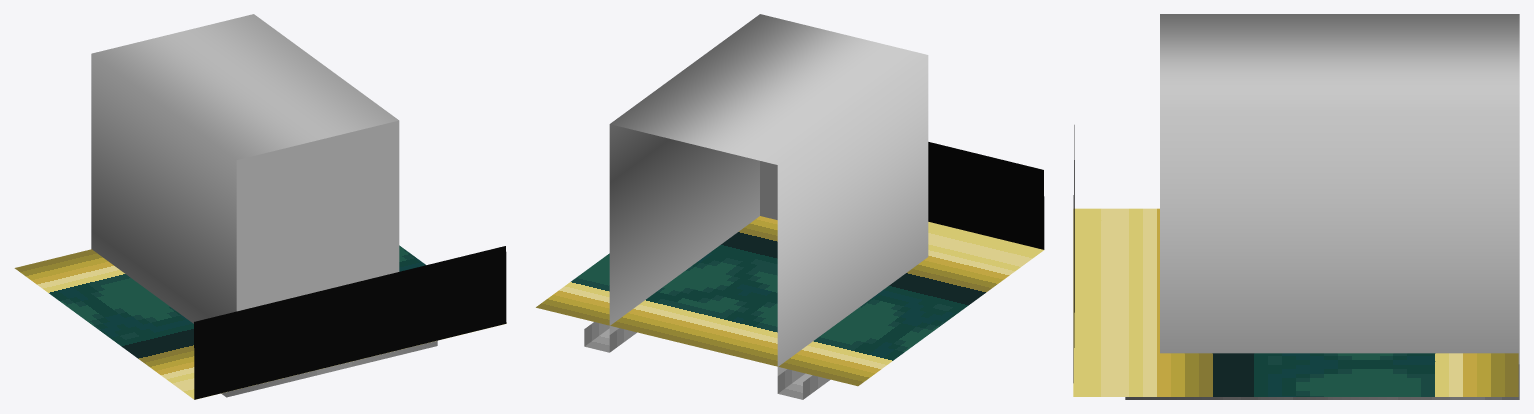
The model's file is Wall&Door1.obj.
3 renders of one model, left to right at view 1: azimuth 30°, elevation 25°; view 2: azimuth 150°, elevation 25°; view 3: azimuth 270°, elevation 25°, orthographic. The views are drawn at different scales.
Visible parts, largest first — view 1: map; view 2: map; view 3: map.
Boxes of the visible parts, x1,y1,x2,y2 form: map: [14, 14, 506, 399]; map: [536, 14, 1044, 399]; map: [1073, 14, 1519, 399].
Size of the model in its own units: 3 by 2.03 by 3.01.
